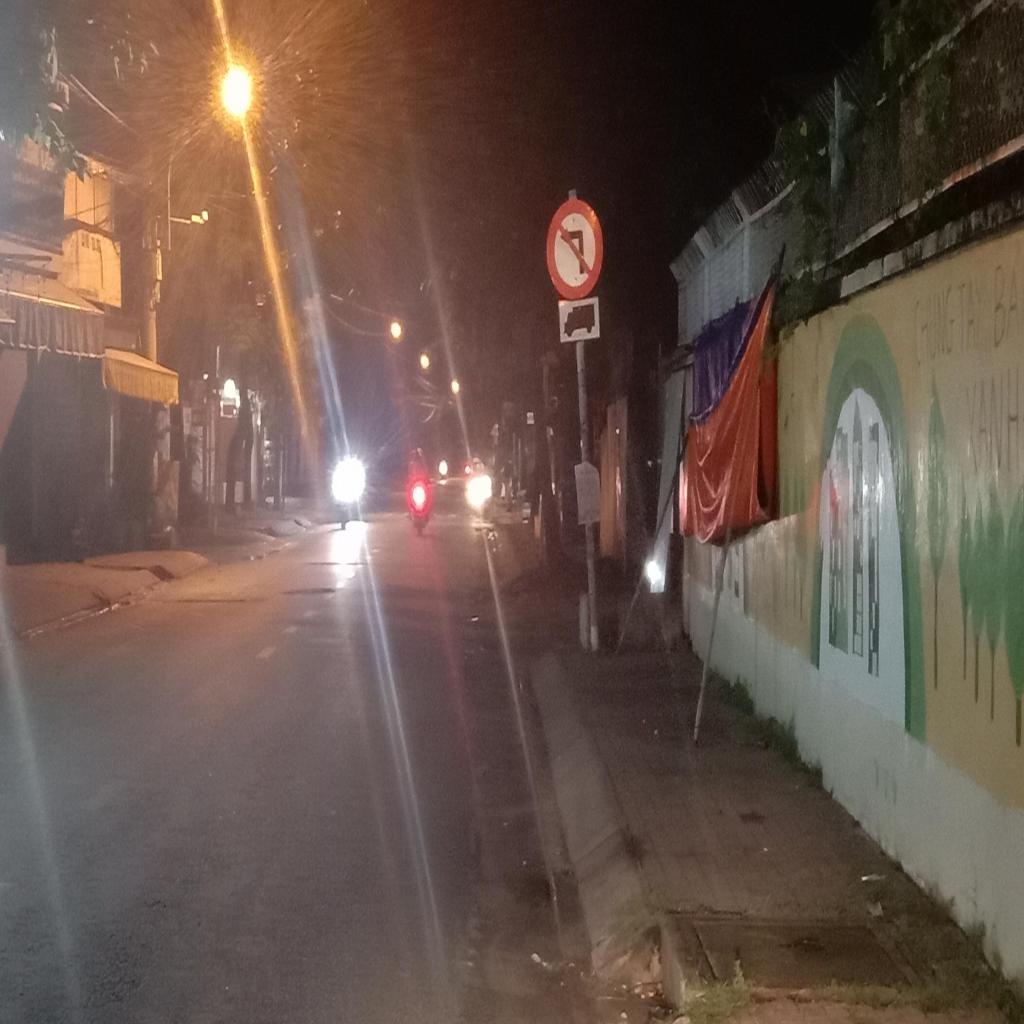cam_re_trai: (547, 199, 603, 298)
khac: (559, 298, 599, 343)
